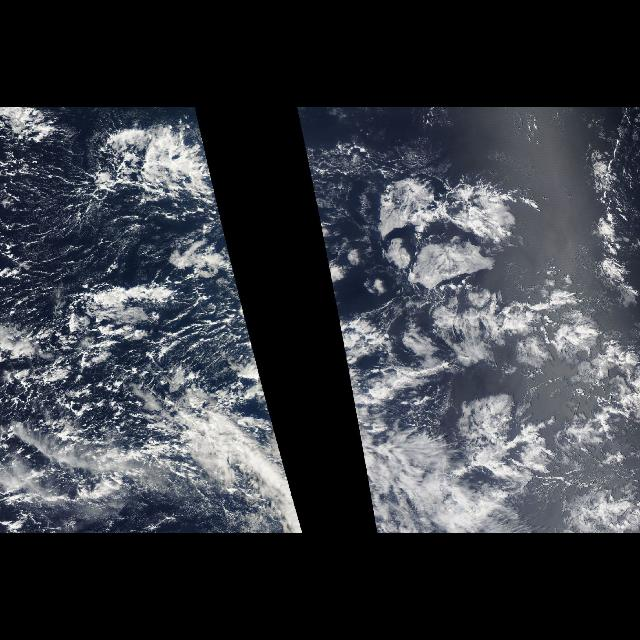Fish: (300, 125, 636, 528), (8, 125, 302, 528)
Flower: (374, 178, 548, 288)
Sugar: (0, 154, 86, 296)
